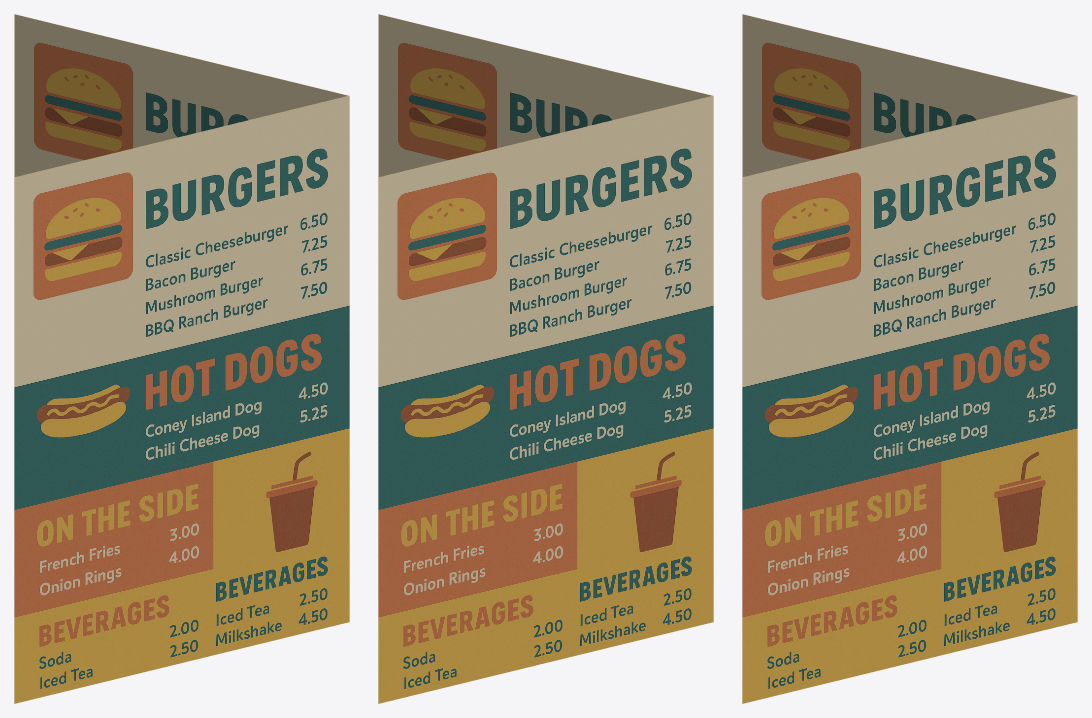
File: table_display.fbx
3 renders of one model, left to right at view 1: azimuth 30°, elevation 25°; view 2: azimuth 150°, elevation 25°; view 3: azimuth 270°, elevation 25°, orthographic.
Parts seen in each view (by area): view 1: Plane; view 2: Plane; view 3: Plane.
Boxes of the visible parts, <box> form: Plane: <box>14,14,349,703</box>; Plane: <box>378,14,713,703</box>; Plane: <box>742,14,1077,703</box>.
Bounding box in the file's own units: 333 × 500 × 289.
Materials: 1 (1 with a texture image).
